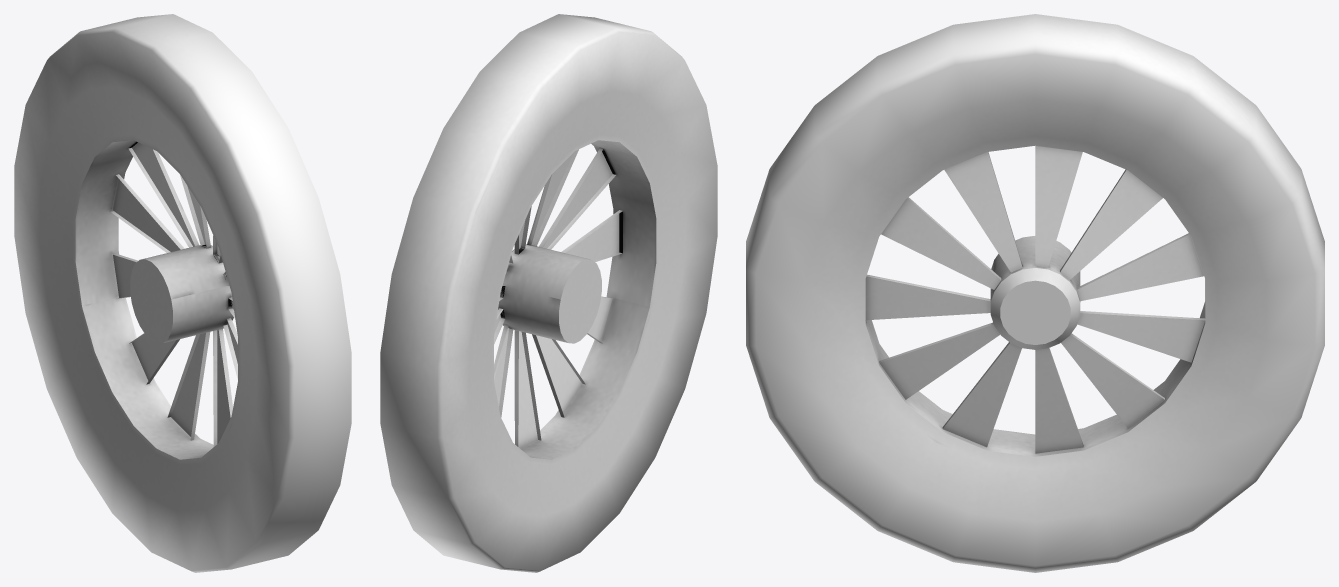
File: Wheels.dae
3 views of the same model, side by side, from view 1: azimuth 30°, elevation 25°; view 2: azimuth 150°, elevation 25°; view 3: azimuth 270°, elevation 25° (orthographic). The views are drawn at different scales.
Parts seen in each view (by area): view 1: WHEELSFL; view 2: WHEELSFL; view 3: WHEELSFL.
Part boxes in pixels (left/top/right/bottom): WHEELSFL: left=14, top=14, right=351, bottom=572; WHEELSFL: left=380, top=14, right=717, bottom=572; WHEELSFL: left=746, top=14, right=1324, bottom=572.
Bounding box in the file's own units: 0.1687 × 1.14 × 1.15.
1 material, 1 textured.
